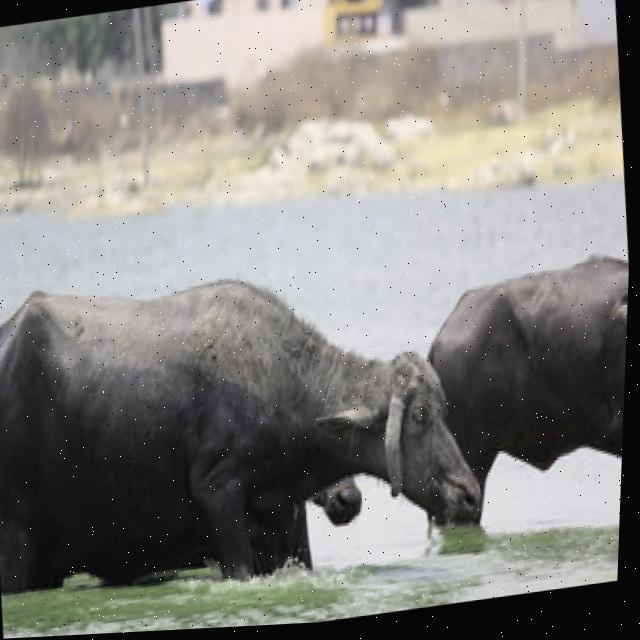Buffalo: (0, 229, 493, 599)
